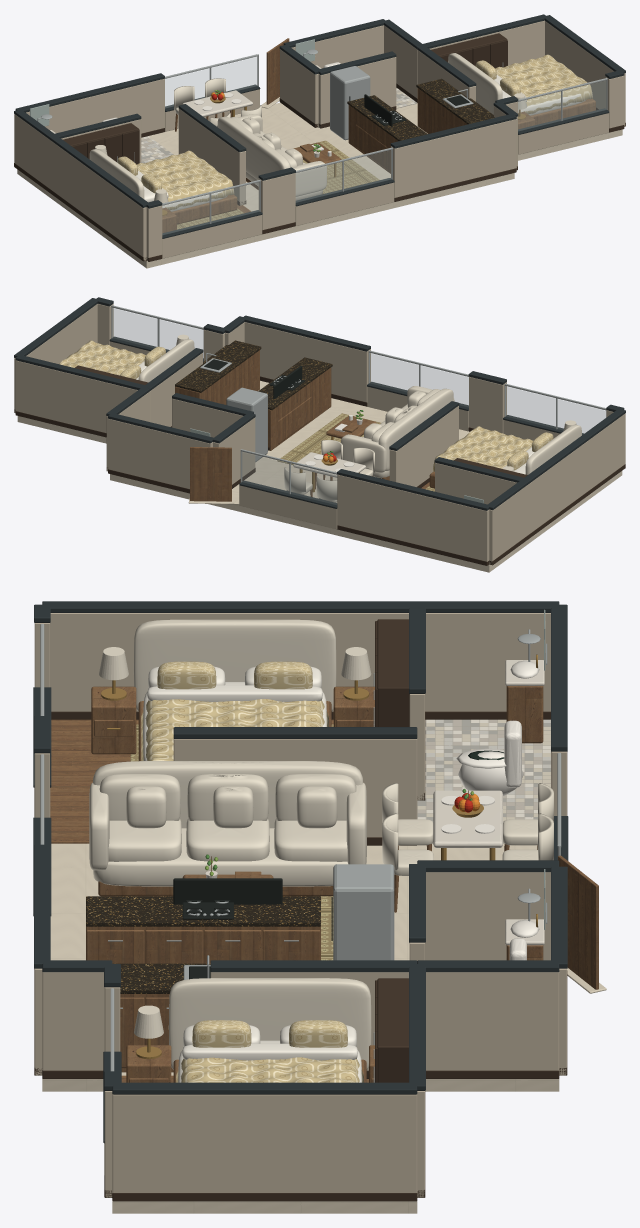
File: aristo-06.glb
3 renders of one model, top to bottom at view 1: azimuth 30°, elevation 25°; view 2: azimuth 150°, elevation 25°; view 3: azimuth 270°, elevation 25°, orthographic. The views are drawn at different scales.
Visible parts, largest first — view 1: Apartment foundation, Ivory masonry.011, Ivory masonry.008, Ivory masonry, Soft jacquard duvet with folds.003, Soft jacquard duvet with folds.004, Cutaway window glazing.001, Cutaway window glazing.002, Ivory masonry.013, Cutaway window glazing.003, Ivory masonry.004, Window sill.001 (+54 smaller); view 2: Ivory masonry, Ivory masonry.011, Apartment foundation, Ivory masonry.003, Ivory masonry.008, Ivory masonry.001, Ivory masonry.013, Cutaway window glazing, Cutaway window glazing.001, Cutaway window glazing.002, Open walnut door leaf, Cutaway window glazing.003 (+47 smaller); view 3: Ivory masonry.004, Ivory masonry.011, Apartment foundation, Ivory masonry.002, Padded headboard.003, Padded headboard.004, Ivory masonry.014, Ivory masonry.013, Ivory masonry.007, Charcoal wall cut.011, Brushed refrigerator, Soft jacquard duvet with folds.003 (+74 smaller).
Part boxes in pixels (x1,y1,x2,y2): Apartment foundation: (17, 102, 622, 268); Ivory masonry.011: (14, 114, 146, 260); Ivory masonry.008: (391, 119, 516, 197); Ivory masonry: (26, 78, 164, 133); Soft jacquard duvet with folds.003: (136, 150, 234, 210); Soft jacquard duvet with folds.004: (495, 54, 592, 114); Cutaway window glazing.001: (162, 182, 259, 234); Cutaway window glazing.002: (296, 150, 391, 202); Ivory masonry.013: (178, 108, 245, 205); Cutaway window glazing.003: (518, 81, 606, 130); Ivory masonry.004: (545, 21, 625, 126); Window sill.001: (162, 215, 262, 258); Ivory masonry: (337, 474, 489, 561); Ivory masonry.011: (489, 413, 625, 564); Apartment foundation: (17, 380, 622, 572); Ivory masonry.003: (15, 360, 137, 432); Ivory masonry.008: (244, 322, 370, 402); Ivory masonry.001: (108, 418, 212, 488); Ivory masonry.013: (389, 406, 458, 486); Cutaway window glazing: (242, 452, 336, 504); Cutaway window glazing.001: (506, 386, 605, 434); Cutaway window glazing.002: (370, 353, 468, 407); Open walnut door leaf: (190, 447, 231, 501); Cutaway window glazing.003: (112, 308, 203, 359); Ivory masonry.004: (112, 1094, 417, 1192); Ivory masonry.011: (50, 613, 550, 711); Apartment foundation: (42, 843, 559, 1213); Ivory masonry.002: (426, 972, 559, 1070); Padded headboard.003: (133, 619, 336, 711); Padded headboard.004: (168, 978, 371, 1069); Ivory masonry.014: (425, 872, 550, 960); Ivory masonry.013: (173, 738, 417, 837); Ivory masonry.007: (42, 972, 104, 1070); Charcoal wall cut.011: (42, 601, 559, 612); Brushed refrigerator: (333, 864, 394, 960); Soft jacquard duvet with folds.003: (141, 699, 328, 760).
Size of the model in its own units: 10.78 by 1.37 by 5.35.
24 materials, 6 textured.
